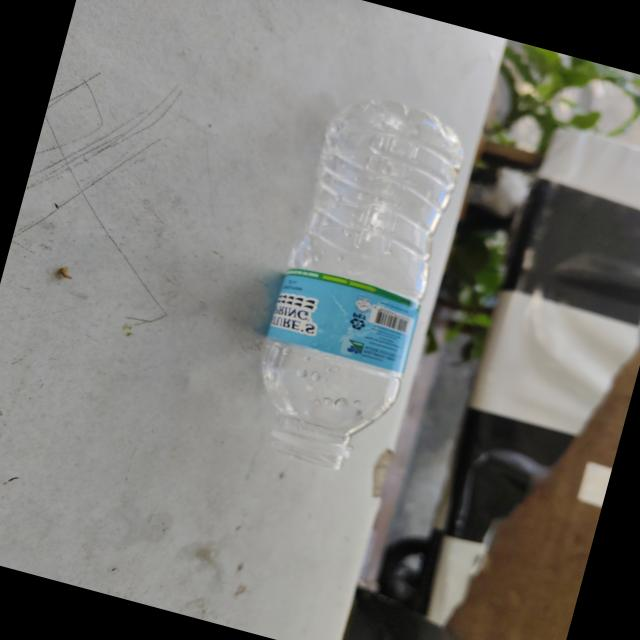Bottle: (260, 101, 461, 469)
